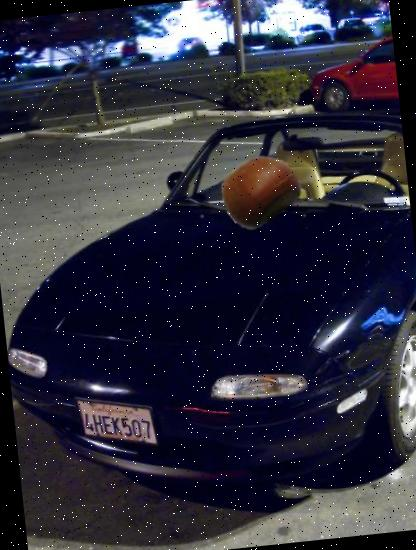Nut: (216, 148, 301, 234)
